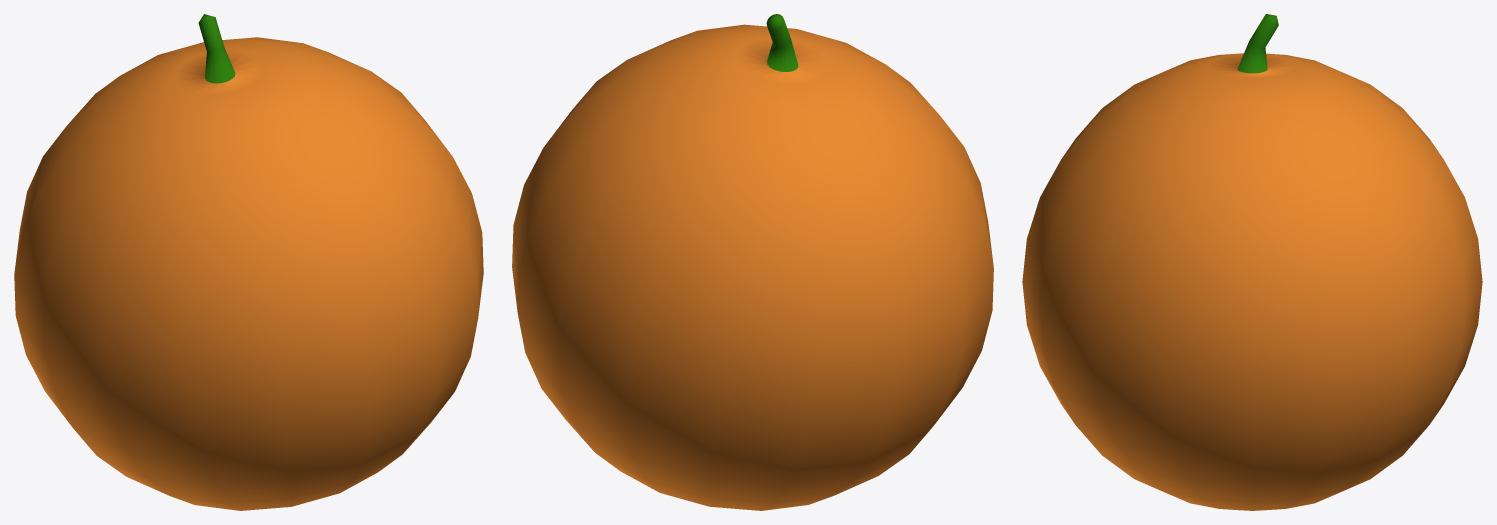
The model's file is Orange.fbx.
3 views of the same model, side by side, from view 1: azimuth 30°, elevation 25°; view 2: azimuth 150°, elevation 25°; view 3: azimuth 270°, elevation 25° (orthographic). The views are drawn at different scales.
Visible parts, largest first — view 1: Grabbable Orange; view 2: Grabbable Orange; view 3: Grabbable Orange.
Boxes of the visible parts, x1=… form: Grabbable Orange: x1=14, y1=14, x2=483, y2=510; Grabbable Orange: x1=512, y1=14, x2=993, y2=510; Grabbable Orange: x1=1022, y1=14, x2=1482, y2=510.
Bounding box in the file's own units: 14.33 × 15.82 × 14.35.
